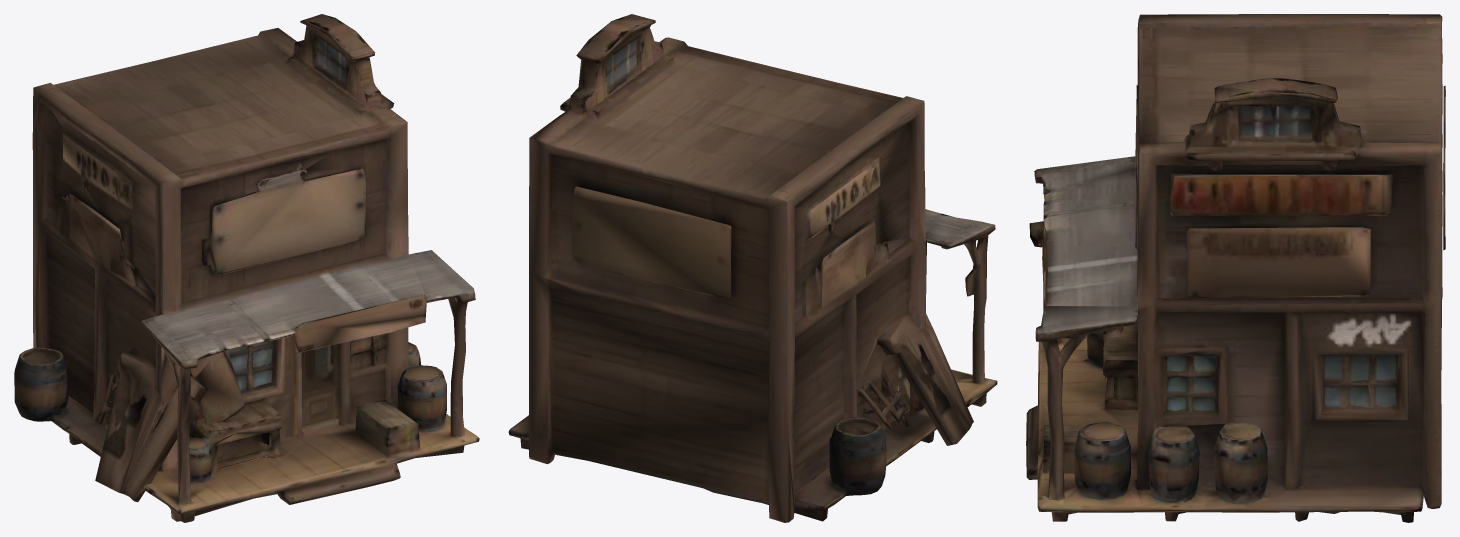
File: supply.glb
3 renders of one model, left to right at view 1: azimuth 30°, elevation 25°; view 2: azimuth 150°, elevation 25°; view 3: azimuth 270°, elevation 25°, orthographic. The views are drawn at different scales.
Bounding box in the file's own units: 0.9427 × 1 × 0.9014.
Materials: 1 (1 with a texture image).
